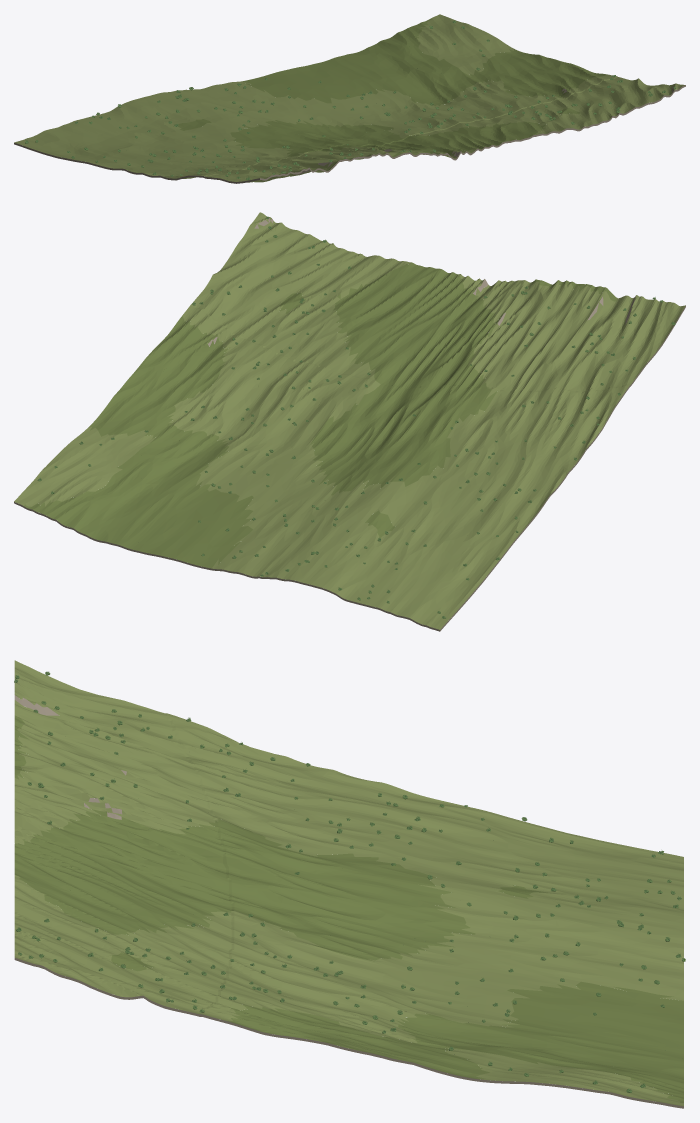
The model's file is parca_+6_-4-yakin.glb.
The picture shows the model from 3 angles, top to bottom: view 1: azimuth 30°, elevation 25°; view 2: azimuth 150°, elevation 25°; view 3: azimuth 270°, elevation 25°; orthographic projection. The views are drawn at different scales.
Visible parts, largest first — view 1: parca_+6_-4_arazi, parca_+6_-4_bitkiler; view 2: parca_+6_-4_arazi, parca_+6_-4_bitkiler; view 3: parca_+6_-4_arazi, parca_+6_-4_bitkiler.
Part boxes in pixels (bbox=[...]): parca_+6_-4_arazi: bbox=[14, 14, 685, 183]; parca_+6_-4_bitkiler: bbox=[25, 20, 675, 180]; parca_+6_-4_arazi: bbox=[14, 212, 685, 631]; parca_+6_-4_bitkiler: bbox=[37, 216, 675, 618]; parca_+6_-4_arazi: bbox=[14, 660, 683, 1108]; parca_+6_-4_bitkiler: bbox=[14, 671, 685, 1092].
Size of the model in its own units: 1004 by 331 by 1004.
